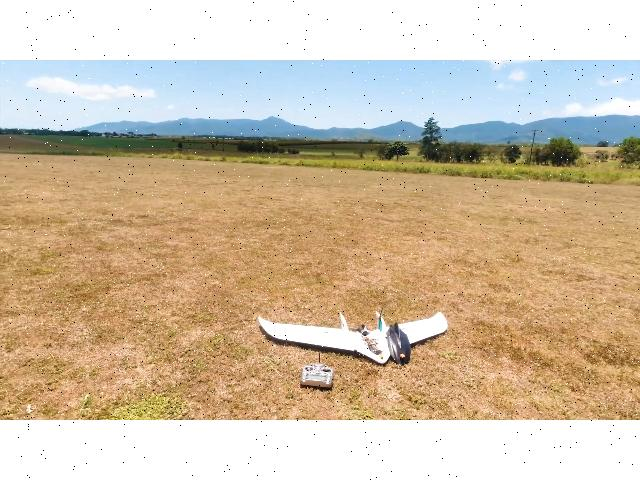Anti-Drone: (231, 298, 479, 374)
